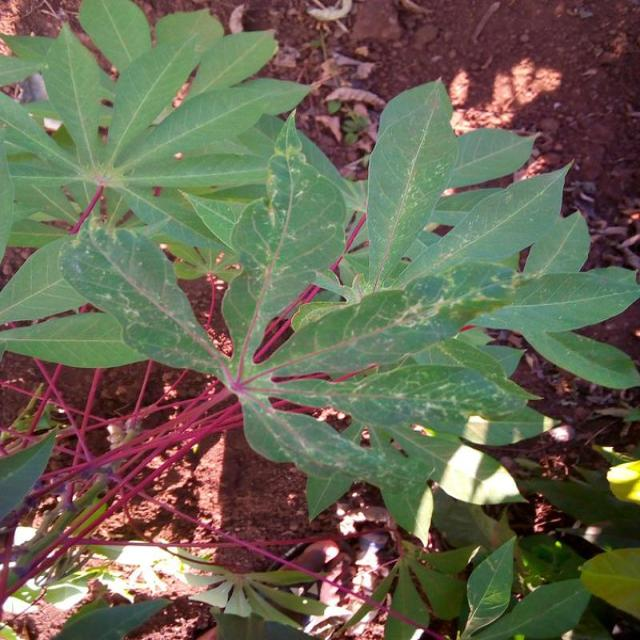cassava leaf: (0, 3, 638, 552)
